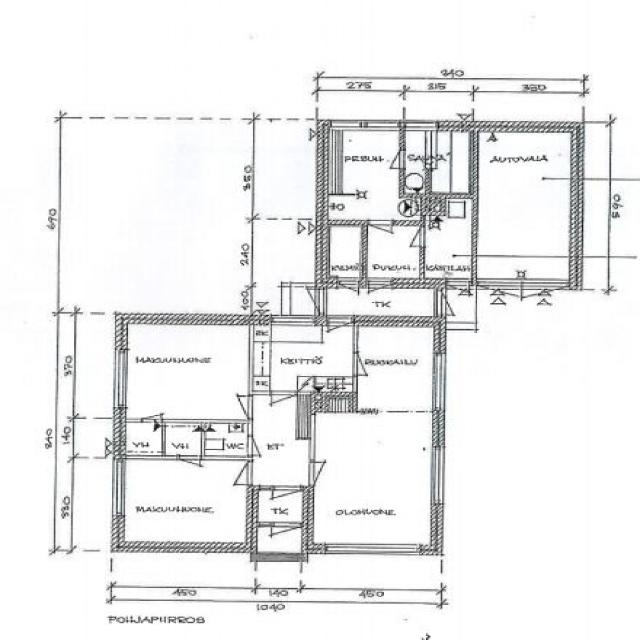door: (523, 279, 568, 329), (478, 279, 523, 329), (434, 290, 473, 315), (288, 289, 327, 314), (271, 522, 301, 553), (272, 486, 300, 514), (220, 461, 252, 484), (328, 315, 351, 347), (368, 279, 392, 308), (446, 279, 469, 309), (352, 353, 382, 376), (221, 396, 252, 418), (309, 462, 338, 484), (271, 391, 295, 416), (369, 220, 392, 246), (338, 279, 359, 307), (246, 436, 274, 455), (179, 456, 201, 478), (378, 150, 404, 168), (142, 401, 161, 422)
